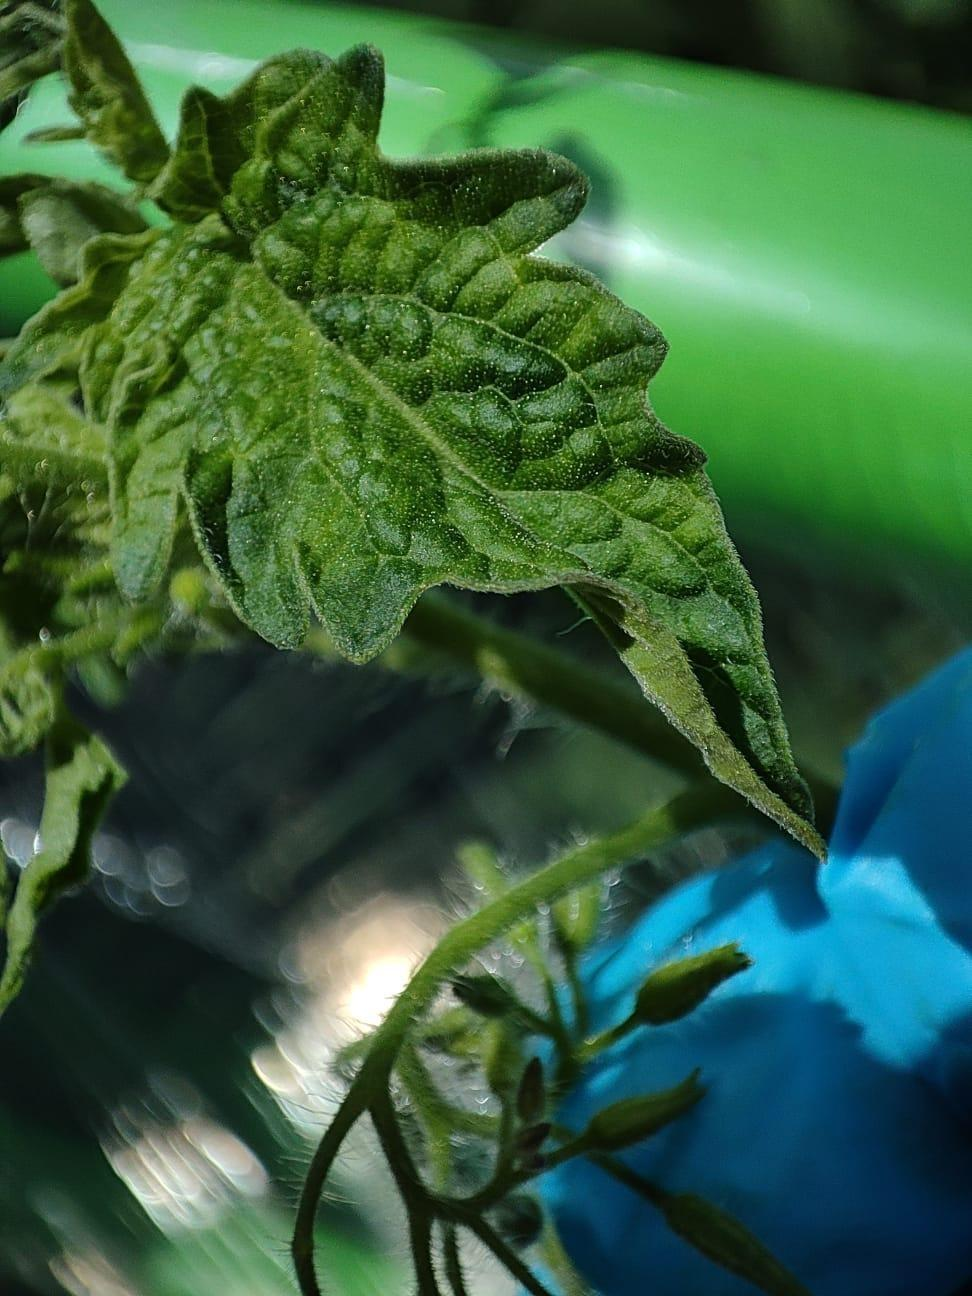Hoja rugoso: (81, 51, 818, 848)
